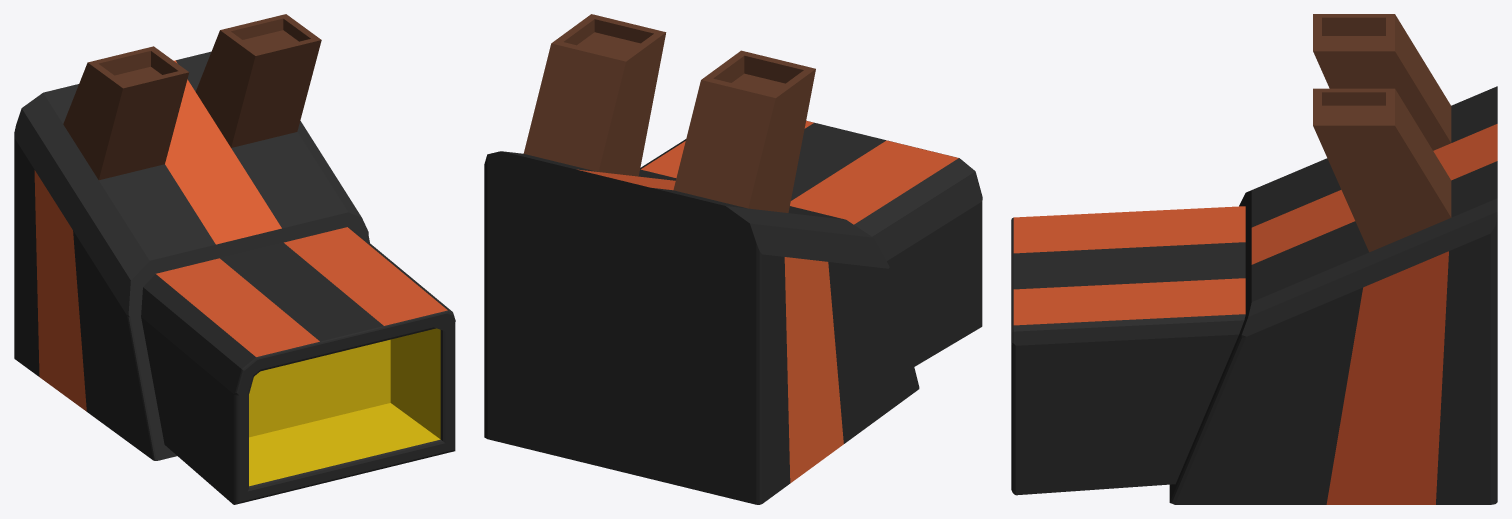
The model's file is GoldMine.fbx.
3 renders of one model, left to right at view 1: azimuth 30°, elevation 25°; view 2: azimuth 150°, elevation 25°; view 3: azimuth 270°, elevation 25°, orthographic. The views are drawn at different scales.
Parts seen in each view (by area): view 1: GoldMine; view 2: GoldMine; view 3: GoldMine.
Part boxes in pixels (x1,y1,x2,y2): GoldMine: [14, 14, 455, 504]; GoldMine: [484, 14, 982, 504]; GoldMine: [1011, 14, 1497, 504].
Size of the model in its own units: 2 by 2.97 by 2.49.
